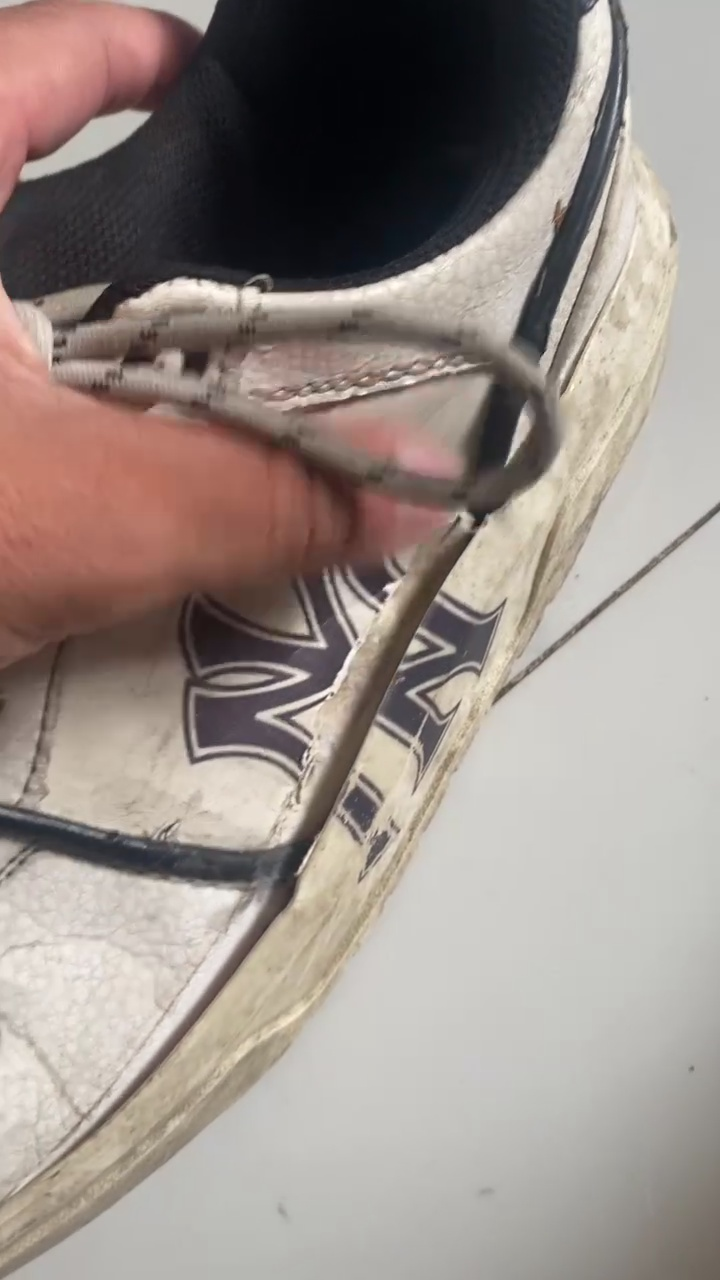bonding: (242, 740, 338, 950), (331, 537, 421, 758), (428, 474, 473, 604)
